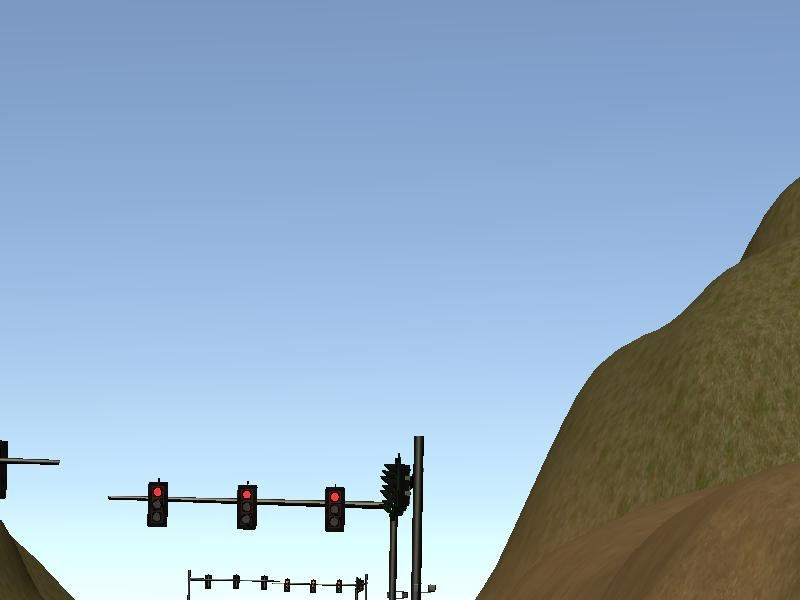red: (234, 482, 259, 531), (145, 478, 169, 529), (322, 485, 346, 533)
